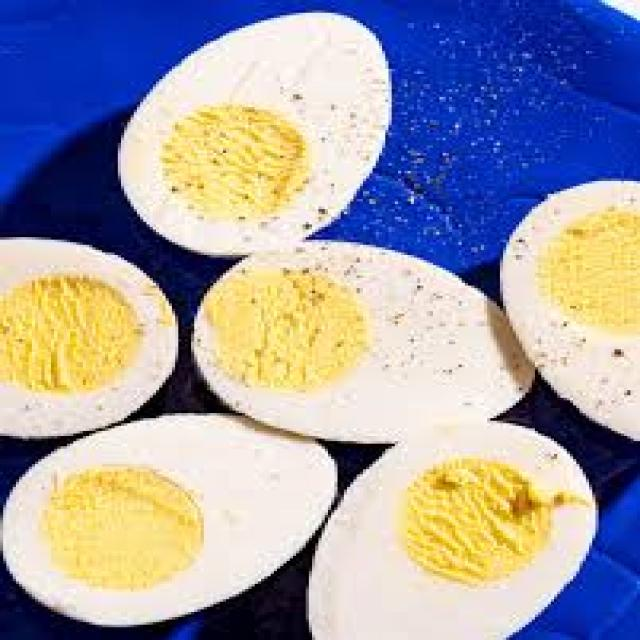boiled egg: (0, 414, 337, 627), (192, 240, 534, 443), (118, 13, 391, 257), (306, 421, 598, 639), (500, 182, 639, 441), (0, 238, 178, 438)
